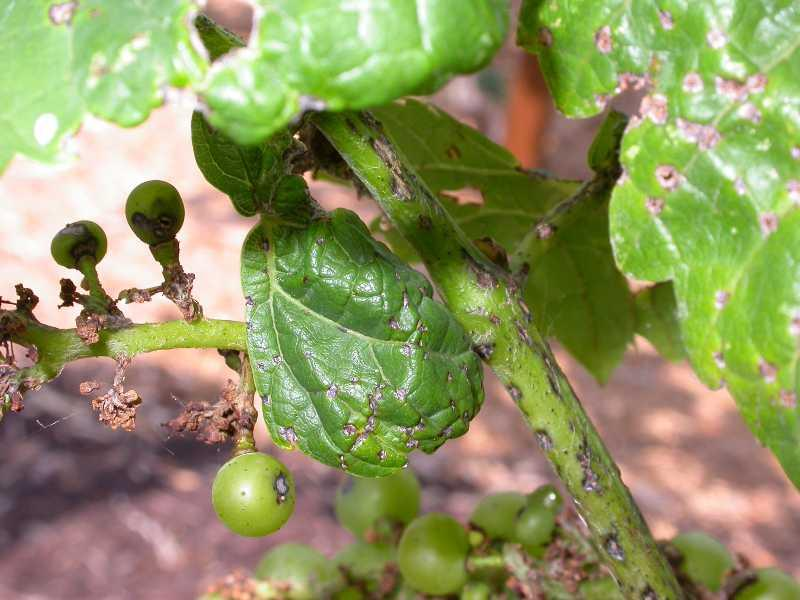grape leaf: (514, 1, 800, 500), (193, 195, 500, 487)
